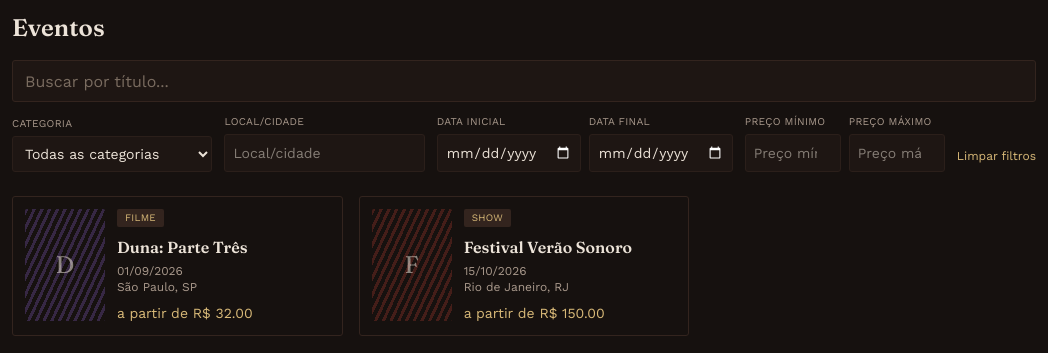
HomePage › clears all filters and their visible input values when "Limpar filtros" is clicked
Expected: the heading "Duna: Parte Três" is shown, [117,238,248,258]
In the field with placeholder "Buscar por título...": (524, 81) [12,60,1036,102], type "Duna"
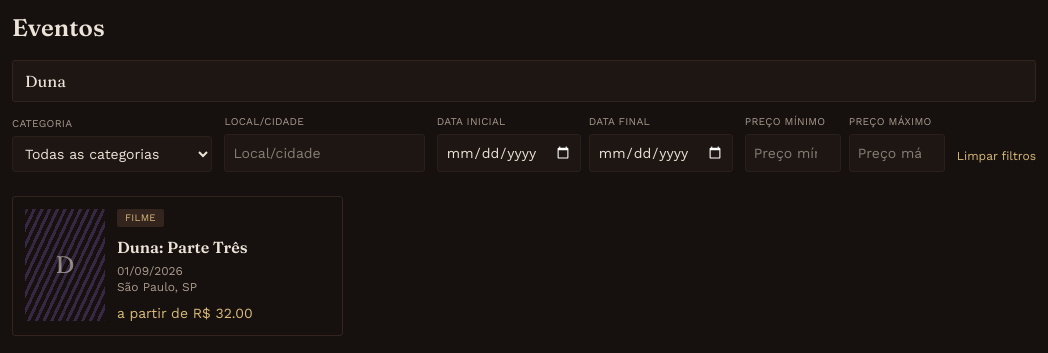
Result: the link "Festival Verão Sonoro" is gone
Click the button "Limpar filtros": (996, 160) [957,148,1036,172]
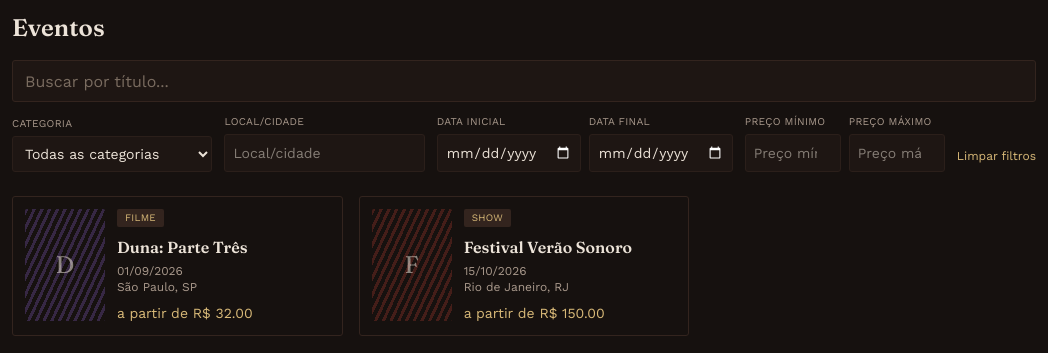
Result: the field with placeholder "Buscar por título..." is empty at [12,60,1036,102]
Result: the heading "Festival Verão Sonoro" is shown at [464,238,632,258]
